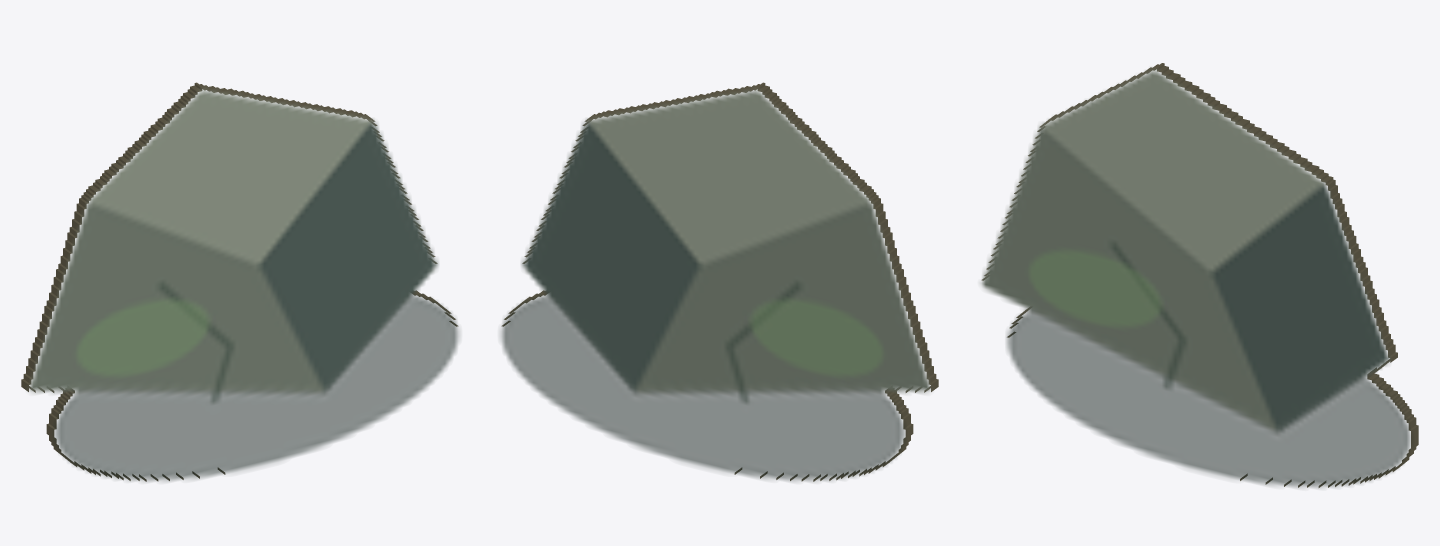
Rendered from LargeRock.glb.
3 views of the same model, side by side, from view 1: azimuth 30°, elevation 25°; view 2: azimuth 150°, elevation 25°; view 3: azimuth 330°, elevation 25° (orthographic).
Visible parts, largest first — view 1: Visual; view 2: Visual; view 3: Visual.
Boxes of the visible parts, box(x1,y1,x2,y2) form: Visual: box(21, 82, 458, 481); Visual: box(501, 82, 938, 481); Visual: box(980, 63, 1418, 488).
Size of the model in its own units: 2.7 by 2.35 by 0.08.
3 materials, 2 textured.
